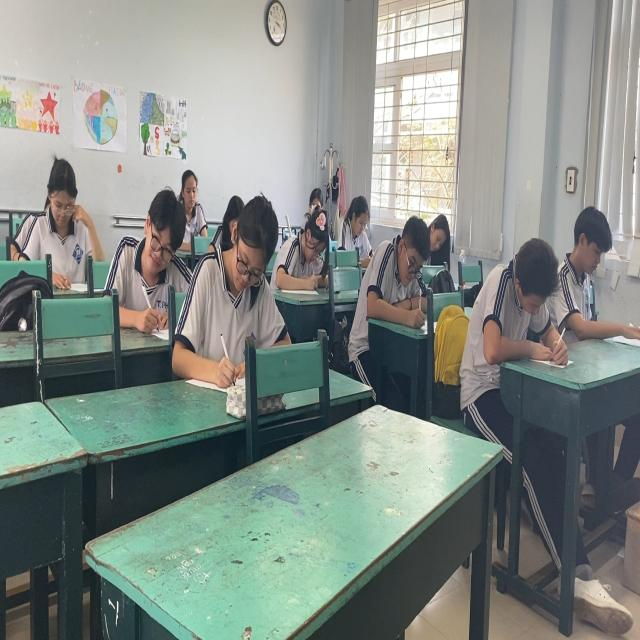not_cheating: (199, 200, 285, 376), (474, 231, 567, 372), (555, 206, 640, 344), (108, 193, 184, 327), (28, 158, 98, 282), (367, 217, 433, 317), (282, 200, 333, 294), (177, 158, 210, 244), (340, 192, 374, 248), (423, 206, 453, 258)
